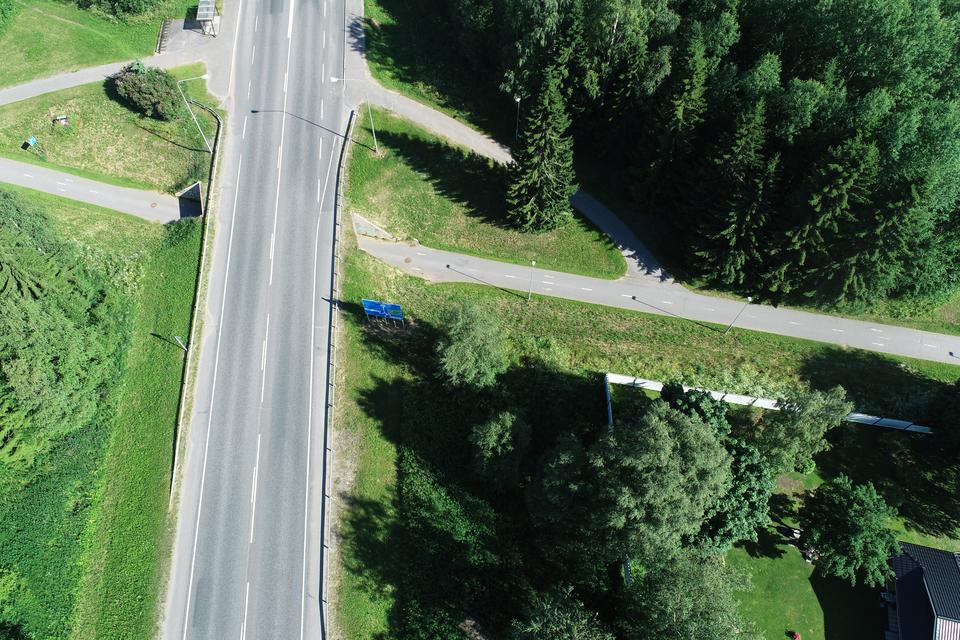intersection: (152, 12, 410, 145), (570, 209, 711, 342)
